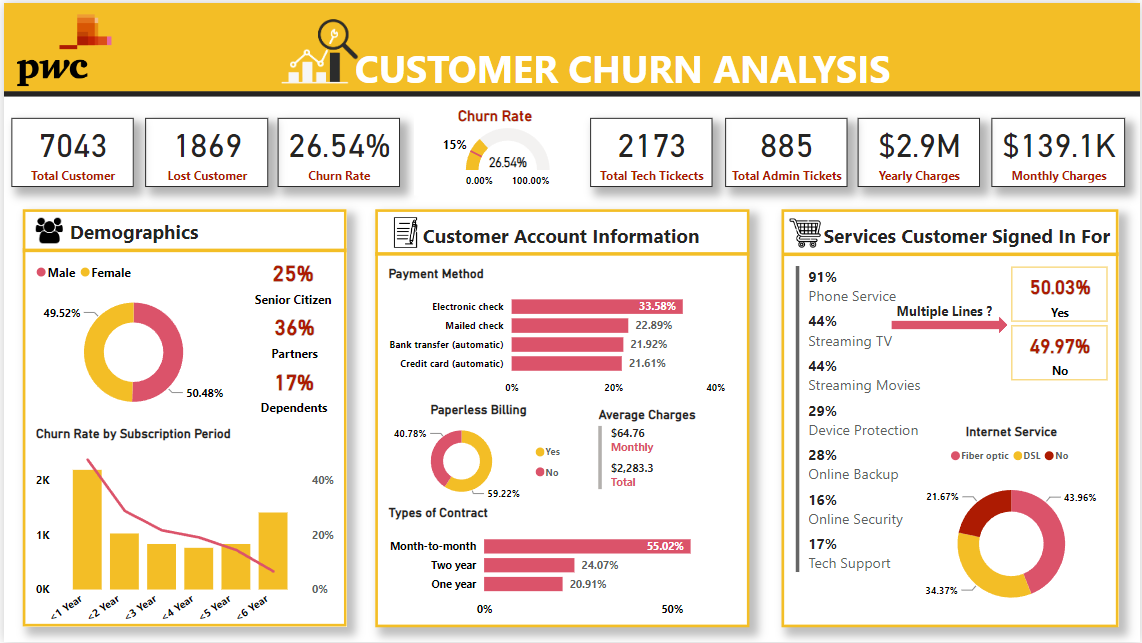

Layout of this report page (visuals, bound fields, positions):
{"tool":"powerbi","page":{"name":"Page 1","canvas":[1280,720],"ordinal":0},"visuals":[{"type":"shape","box":[0,0,1280,100],"z":0},{"type":"card","fields":{"Values":["Churn.Lost Customer"]},"box":[158.7,129.3,138.7,77.3],"z":1000},{"type":"card","fields":{"Values":["Sum(01 Churn-Dataset.TotalCharges)"]},"box":[962.7,129.1,137.3,77.3],"z":2000},{"type":"card","fields":{"Values":["Sum(01 Churn-Dataset.numTechTickets)"]},"box":[660,129.1,137.3,77.3],"z":3000},{"type":"card","fields":{"Values":["Sum(01 Churn-Dataset.numAdminTickets)"]},"box":[812,129.1,137.3,77.3],"z":4000},{"type":"card","fields":{"Values":["Sum(01 Churn-Dataset.MonthlyCharges)"]},"box":[1113.3,129.1,150.7,77.3],"z":5000},{"type":"card","fields":{"Values":["Churn.Total Customer"]},"box":[9.1,129.1,137.3,77.3],"z":6000},{"type":"shape","box":[20.8,231.8,364.9,470.1],"z":7000},{"type":"shape","box":[418.8,231.9,421.7,471],"z":8000},{"type":"donutChart","fields":{"Category":["01 Churn-Dataset.gender"],"Y":["CountNonNull(01 Churn-Dataset.customerID)"]},"box":[30.5,283.6,230.4,191.3],"z":9000},{"type":"shape","box":[875.4,231.9,379.7,471],"z":10000},{"type":"textbox","box":[60,238.7,172,46.7],"z":11000},{"type":"shape","box":[20.8,269.5,364.9,19.5],"z":12000},{"type":"textbox","box":[457.3,242.7,340,46.7],"z":13000},{"type":"shape","box":[418.8,272.5,421.7,21.7],"z":14000},{"type":"textbox","box":[914.7,242.7,341.3,46.7],"z":15000},{"type":"shape","box":[877.3,272,378.7,22.7],"z":16000},{"type":"card","fields":{"Values":["Churn.% of Senior Citizen"]},"box":[274.3,282.5,102.6,59.7],"z":17000},{"type":"card","fields":{"Values":["Churn.% of Partners"]},"box":[273.9,339.1,108.7,69.6],"z":18000},{"type":"card","fields":{"Values":["Churn.% of Dependents"]},"box":[273.9,402.9,107.2,65.2],"z":19000},{"type":"lineStackedColumnComboChart","title":"Churn Rate by Subscription Period","fields":{"Category":["Tenure Period.Subscription Period"],"Y":["Churn.Total Customer"],"Y2":["Churn.Churn Rate"]},"box":[30.4,475.4,346.4,242],"z":20000},{"type":"card","fields":{"Values":["Churn.Churn Rate"]},"box":[308,129.3,137.3,77.3],"z":21000},{"type":"clusteredBarChart","title":"Payment Method","fields":{"Category":["Churn.PaymentMethod"],"Y":["CountNonNull(Churn.PaymentMethod)"]},"box":[427.5,295.7,400,155.1],"z":22000},{"type":"donutChart","title":"Paperless Billing","fields":{"Category":["Churn.PaperlessBilling"],"Y":["CountNonNull(Churn.PaperlessBilling)"]},"box":[427.5,449.3,213,117.4],"z":23000},{"type":"multiRowCard","title":"Average Charges","fields":{"Values":["Avg(Churn.MonthlyCharges)","Avg(Churn.TotalCharges)"]},"box":[665.2,455.1,124.6,111.6],"z":24000},{"type":"clusteredBarChart","title":"Types of Contract","fields":{"Category":["Churn.Contract"],"Y":["CountNonNull(Churn.Contract)"]},"box":[427.5,560.9,408.7,139.1],"z":25000},{"type":"multiRowCard","fields":{"Values":["Churn.% of Phone Service","Churn.% of Streaming TV","Churn.% of Streaming Movies","Churn.% of DeviceProtection","Churn.% of Online Backup","Churn.% of Online Security","Churn.% of Tech Support"]},"box":[888,292,150.7,369.3],"z":26000},{"type":"donutChart","title":"Internet Service","fields":{"Category":["Churn.InternetService"],"Y":["CountNonNull(Churn.InternetService)"]},"box":[1022.7,474.7,225.3,225.3],"z":27000},{"type":"shape","box":[1000,353.3,130.7,18.7],"z":28000},{"type":"textbox","box":[992,332,136,41.3],"z":29000},{"type":"card","fields":{"Values":["Churn.% of Yes Multiple Lines"]},"box":[1134.7,297.7,108,61.3],"z":30000},{"type":"card","fields":{"Values":["Churn.% of No Multiple Lines"]},"box":[1134.7,363,108,61.3],"z":31000},{"type":"gauge","title":"Churn Rate","fields":{"Y":["Churn.Churn Rate"],"TargetValue":["Max(Churn.Target Churn Rate)"]},"box":[462.7,117.3,182.7,100],"z":32000},{"type":"image","box":[9.3,0,116,106.7],"z":33000},{"type":"image","box":[273.2,0,164.8,108.5],"z":34000},{"type":"textbox","box":[385.9,39.4,622.5,67.6],"z":35000},{"type":"shape","box":[0,96,1280,13.3],"z":36000},{"type":"image","box":[30.7,232,40,48],"z":37000},{"type":"image","box":[428,236,48,44],"z":38000},{"type":"image","box":[880,238.7,45.3,42.7],"z":39000}]}

Visuals, with their boxes in screenshot pixels (x1, y1, x2, y2), scaled from the page's 1280x720 canvas onto the 1142x643 screenshot:
shape: bbox=[0, 0, 1141, 89]
card - Churn.Lost Customer: bbox=[142, 115, 265, 185]
card - Sum(01 Churn-Dataset.TotalCharges): bbox=[859, 115, 981, 184]
card - Sum(01 Churn-Dataset.numTechTickets): bbox=[589, 115, 711, 184]
card - Sum(01 Churn-Dataset.numAdminTickets): bbox=[724, 115, 847, 184]
card - Sum(01 Churn-Dataset.MonthlyCharges): bbox=[993, 115, 1128, 184]
card - Churn.Total Customer: bbox=[8, 115, 131, 184]
shape: bbox=[19, 207, 344, 627]
shape: bbox=[374, 207, 750, 628]
donutChart - 01 Churn-Dataset.gender x CountNonNull(01 Churn-Dataset.customerID): bbox=[27, 253, 233, 424]
shape: bbox=[781, 207, 1120, 628]
textbox: bbox=[54, 213, 207, 255]
shape: bbox=[19, 241, 344, 258]
textbox: bbox=[408, 217, 711, 258]
shape: bbox=[374, 243, 750, 263]
textbox: bbox=[816, 217, 1121, 258]
shape: bbox=[783, 243, 1121, 263]
card - Churn.% of Senior Citizen: bbox=[245, 252, 336, 306]
card - Churn.% of Partners: bbox=[244, 303, 341, 365]
card - Churn.% of Dependents: bbox=[244, 360, 340, 418]
"Churn Rate by Subscription Period" lineStackedColumnComboChart: bbox=[27, 425, 336, 641]
card - Churn.Churn Rate: bbox=[275, 115, 397, 185]
"Payment Method" clusteredBarChart: bbox=[381, 264, 738, 403]
"Paperless Billing" donutChart: bbox=[381, 401, 571, 506]
"Average Charges" multiRowCard: bbox=[593, 406, 705, 506]
"Types of Contract" clusteredBarChart: bbox=[381, 501, 746, 625]
multiRowCard - Churn.% of Phone Service x Churn.% of Streaming TV: bbox=[792, 261, 927, 591]
"Internet Service" donutChart: bbox=[912, 424, 1113, 625]
shape: bbox=[892, 316, 1009, 332]
textbox: bbox=[885, 296, 1006, 333]
card - Churn.% of Yes Multiple Lines: bbox=[1012, 266, 1109, 321]
card - Churn.% of No Multiple Lines: bbox=[1012, 324, 1109, 379]
"Churn Rate" gauge: bbox=[413, 105, 576, 194]
image: bbox=[8, 0, 112, 95]
image: bbox=[244, 0, 391, 97]
textbox: bbox=[344, 35, 900, 96]
shape: bbox=[0, 86, 1141, 98]
image: bbox=[27, 207, 63, 250]
image: bbox=[382, 211, 425, 250]
image: bbox=[785, 213, 826, 251]
